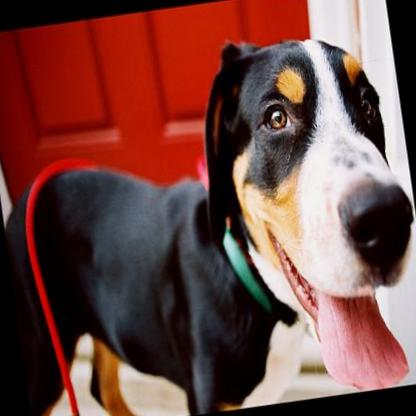Greater_Swiss_Mountain_dog: (0, 16, 416, 416)
